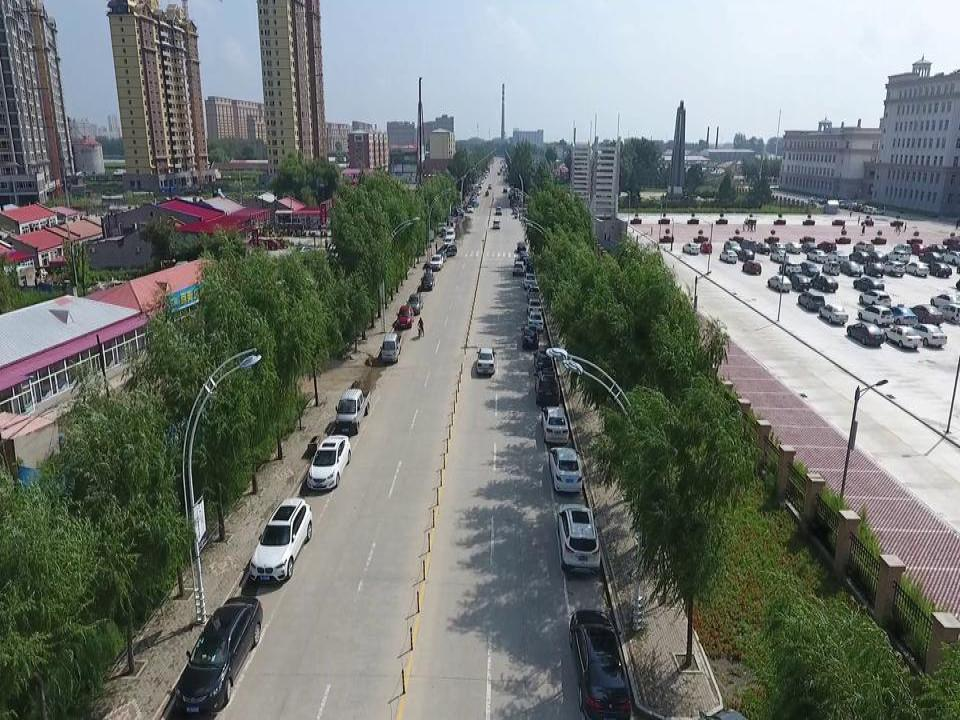car: (173, 595, 263, 713), (570, 609, 630, 719), (246, 496, 313, 588), (558, 507, 600, 570), (306, 436, 350, 491), (548, 447, 583, 492), (540, 405, 568, 444), (883, 326, 922, 350), (908, 324, 947, 348), (535, 368, 560, 405), (847, 322, 883, 346), (856, 306, 894, 326), (906, 306, 944, 326), (883, 306, 918, 326), (859, 288, 891, 308), (818, 304, 848, 325), (797, 289, 825, 311), (533, 348, 553, 376), (809, 275, 839, 293), (853, 276, 884, 293), (520, 324, 539, 351), (477, 346, 495, 374), (936, 304, 960, 324), (395, 306, 414, 330), (903, 262, 930, 278), (767, 275, 792, 292), (930, 293, 960, 307), (406, 292, 423, 316), (839, 260, 863, 277), (882, 260, 905, 277), (789, 274, 811, 290), (779, 260, 801, 276), (799, 262, 821, 278), (917, 251, 944, 264), (927, 263, 952, 277), (862, 263, 885, 277), (527, 310, 543, 330), (806, 249, 828, 263), (822, 260, 841, 276), (742, 260, 762, 275), (887, 251, 910, 264), (826, 251, 848, 264), (853, 240, 875, 253), (723, 240, 742, 255), (770, 249, 789, 264), (848, 252, 871, 264), (527, 297, 541, 316), (719, 249, 738, 263), (783, 241, 802, 255), (421, 272, 434, 292), (817, 241, 837, 254), (438, 243, 456, 257), (893, 242, 912, 255), (927, 243, 946, 256), (525, 283, 539, 300), (944, 251, 960, 265), (867, 252, 886, 263), (511, 260, 524, 276), (682, 242, 698, 255), (912, 243, 928, 256), (738, 250, 755, 262), (524, 272, 536, 288), (430, 254, 442, 270), (801, 243, 818, 253), (757, 242, 770, 255), (771, 241, 786, 252), (433, 222, 446, 234), (699, 241, 711, 254), (434, 249, 445, 263), (445, 228, 456, 241), (518, 250, 529, 262), (443, 236, 453, 247), (516, 240, 525, 251), (453, 207, 464, 216), (870, 207, 884, 214), (493, 219, 500, 229), (495, 205, 502, 215), (807, 196, 819, 201), (466, 205, 473, 212), (512, 207, 519, 214), (471, 197, 474, 204), (488, 184, 492, 189), (502, 188, 507, 192)
van: (380, 333, 399, 364), (740, 237, 757, 255)
